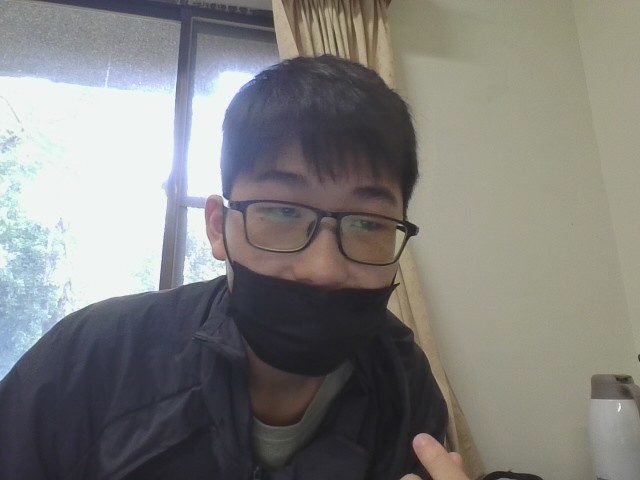No_Gloves: (358, 429, 495, 479)
No_Helmet: (208, 48, 421, 299)
person: (0, 39, 583, 480)
